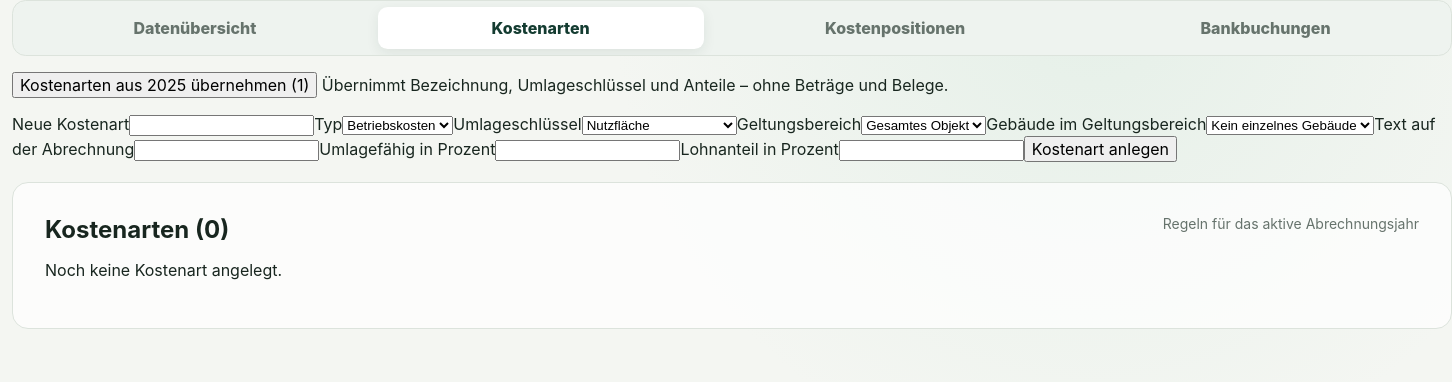
Test: WorkflowRoute › übernimmt fehlende Kostenarten aus dem Vorjahr ohne Beträge
Click the button "Kostenarten aus 2025 übernehmen (1)".
click(165, 85)  # box [12, 72, 317, 98]
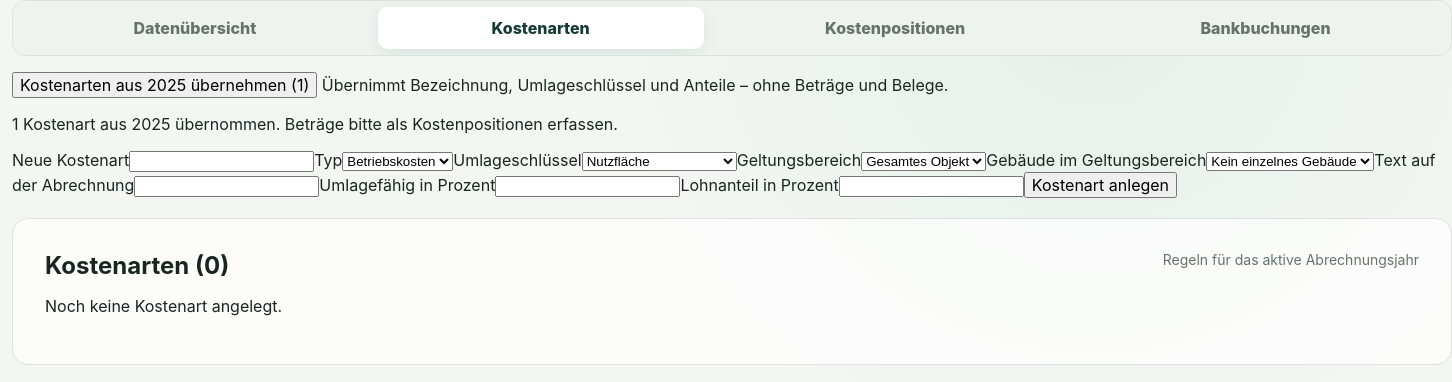
expect the message reads "1 Kostenart aus 2025 übernommen. Beträge bitte als Kostenpositionen erfassen.": met, box [12, 114, 618, 134]
